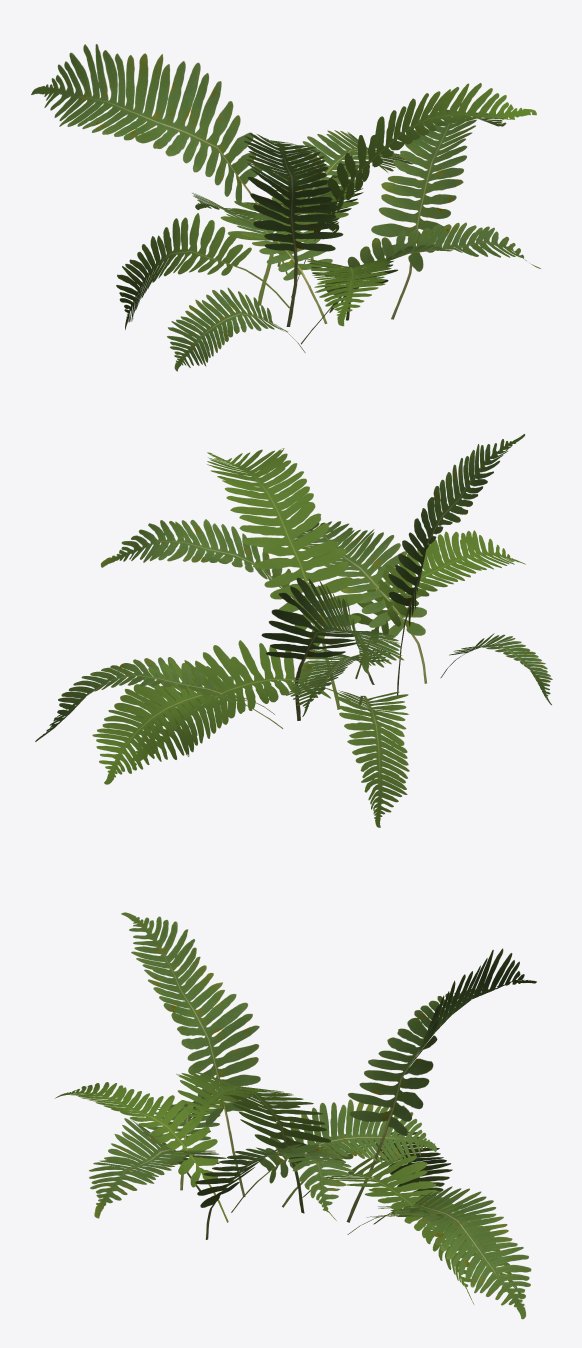
Rendered from runtime-galapagos-fern.glb.
3 renders of one model, top to bottom at view 1: azimuth 30°, elevation 25°; view 2: azimuth 150°, elevation 25°; view 3: azimuth 270°, elevation 25°, orthographic. The views are drawn at different scales.
Visible parts, largest first — view 1: Polypodium_vulgare_HD; view 2: Polypodium_vulgare_HD; view 3: Polypodium_vulgare_HD.
Boxes of the visible parts, x1=… form: Polypodium_vulgare_HD: x1=31, y1=44, x2=540, y2=371; Polypodium_vulgare_HD: x1=35, y1=434, x2=552, y2=827; Polypodium_vulgare_HD: x1=55, y1=912, x2=536, y2=1319.
Bounding box in the file's own units: 0.5181 × 0.3577 × 0.5251.
Materials: 2 (2 with a texture image).
